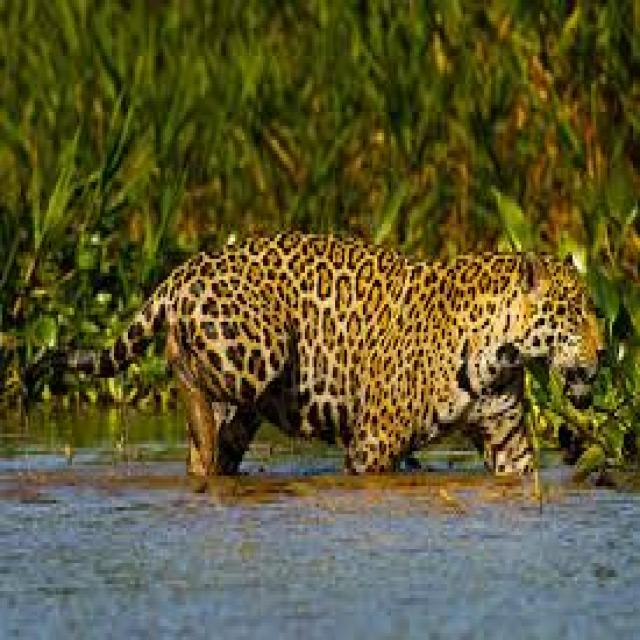Jaguar: (135, 230, 593, 490)
